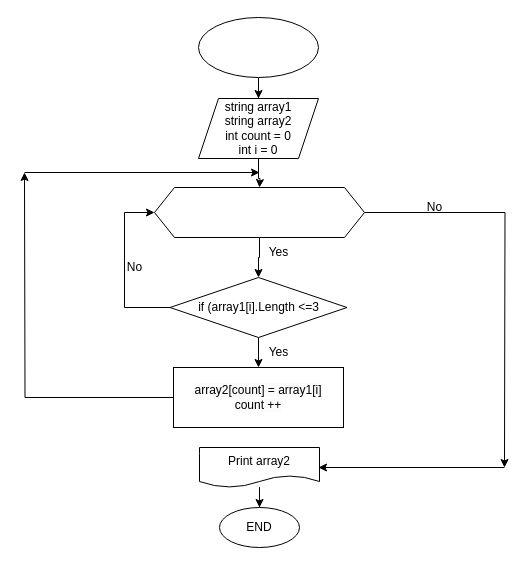
Some shapes in this 531 by 565 pixel diagram are drawn without their labels. Each missing label, with the centre of its shape:
"i < array1.Length" goes at [259,212].
"START" goes at [258,47].
